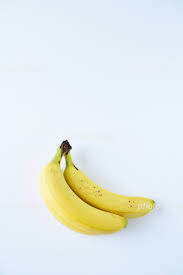banana: (34, 137, 161, 241)
